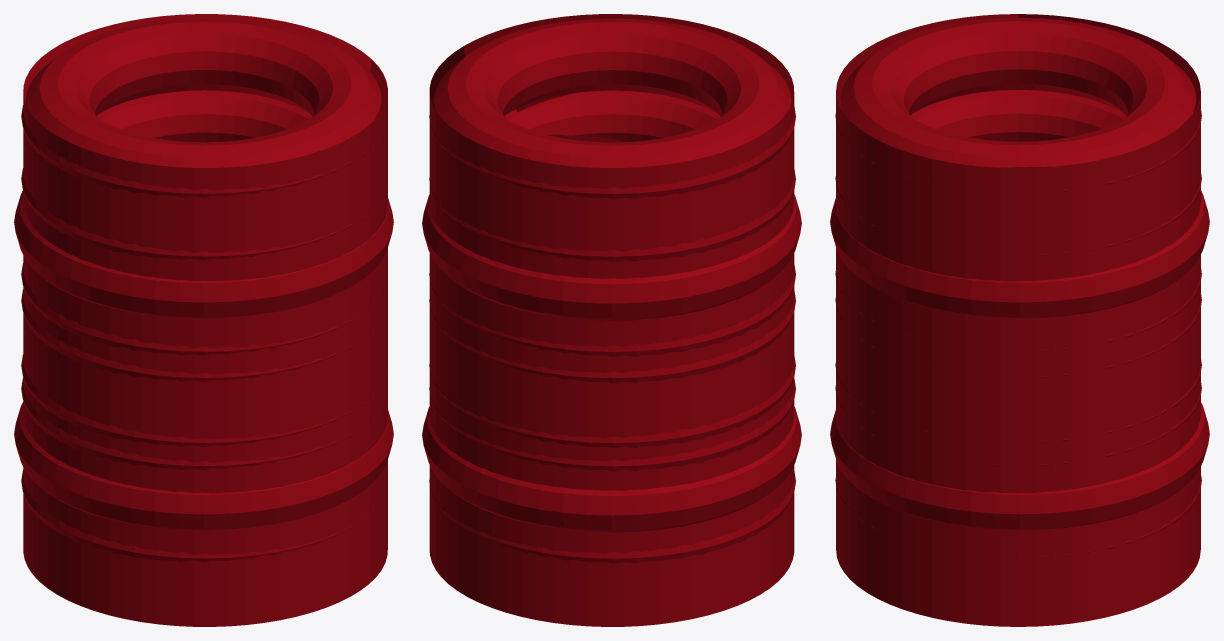
File: bidon.fbx
3 views of the same model, side by side, from view 1: azimuth 30°, elevation 25°; view 2: azimuth 150°, elevation 25°; view 3: azimuth 270°, elevation 25° (orthographic).
Parts seen in each view (by area): view 1: Cylinder, Torus.009, Torus.002, Torus.001, Torus.007, Torus.004, Torus.006, Torus.003, Torus.005, Torus.008; view 2: Cylinder, Torus.009, Torus.001, Torus.002, Torus.007, Torus.003, Torus.005, Torus.006, Torus.008, Torus.004; view 3: Cylinder, Torus.009, Torus.002, Torus.001, Torus.007, Torus.005, Torus.006, Torus.004, Torus.008, Torus.003.
Boxes of the visible parts, x1,y1,x2,y2 form: Cylinder: (23,14,387,626); Torus.009: (21,18,387,197); Torus.002: (14,402,393,530); Torus.001: (14,190,393,318); Torus.007: (21,90,387,260); Torus.004: (21,377,387,470); Torus.006: (21,289,387,381); Torus.003: (21,263,387,355); Torus.005: (21,354,387,446); Torus.008: (21,470,387,562); Cylinder: (429,14,794,626); Torus.009: (429,18,795,199); Torus.001: (422,194,801,320); Torus.002: (422,406,801,532); Torus.007: (429,90,795,261); Torus.003: (429,265,795,357); Torus.005: (429,356,795,448); Torus.006: (429,291,795,383); Torus.008: (429,471,795,563); Torus.004: (429,379,795,471); Cylinder: (836,14,1200,626); Torus.009: (835,18,1201,193); Torus.002: (830,402,1209,529); Torus.001: (830,190,1209,318); Torus.007: (835,90,1201,256); Torus.005: (835,360,1201,442); Torus.006: (835,295,1201,377); Torus.004: (835,383,1201,465); Torus.008: (835,475,1201,557); Torus.003: (835,269,1201,351).
Bounding box in the file's own units: 555 × 752 × 555.
